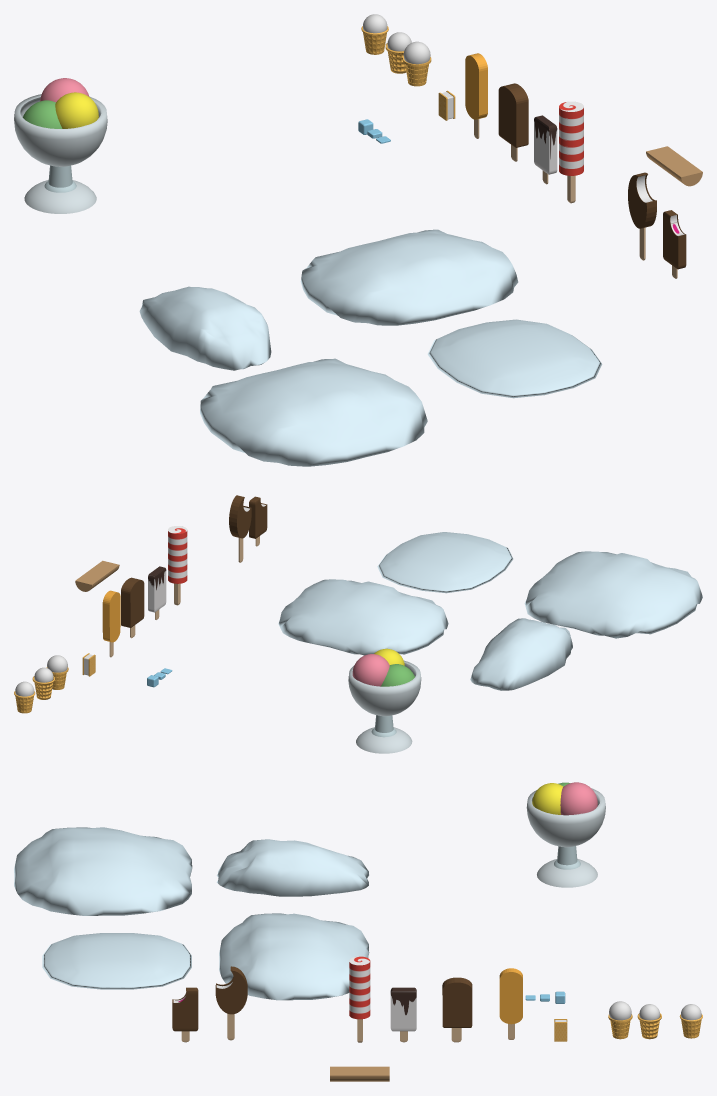
The model's file is smartobjects.fbx.
3 renders of one model, top to bottom at view 1: azimuth 30°, elevation 25°; view 2: azimuth 150°, elevation 25°; view 3: azimuth 270°, elevation 25°, orthographic. The views are drawn at different scales.
Visible parts, largest first — view 1: Cube.013, Cube.002, Cube, Cube.009, Sphere.002, Cylinder, Cylinder.002, Sphere, Cylinder.001, Sphere.003, Cube.005, Cylinder.003 (+4 smaller); view 2: Cube.013, Cube.002, Cube, Cube.009, Sphere.002, Cylinder, Cylinder.002, Sphere, Sphere.001, Cylinder.001, Cylinder.003, Cube.005 (+3 smaller); view 3: Cube.013, Cube.002, Cube, Cube.009, Sphere.002, Cylinder.002, Cylinder, Cylinder.001, Cube.005, Sphere, Cylinder.003, Cube.011 (+3 smaller).
Boxes of the visible parts, left/top/right/bottom form: Cube.013: left=200, top=358, right=427, bottom=466; Cube.002: left=300, top=229, right=518, bottom=325; Cube: left=427, top=319, right=602, bottom=398; Cube.009: left=139, top=286, right=271, bottom=370; Sphere.002: left=14, top=94, right=107, bottom=166; Cylinder: left=559, top=101, right=583, bottom=175; Cylinder.002: left=498, top=83, right=528, bottom=147; Sphere: left=24, top=180, right=96, bottom=213; Cylinder.001: left=465, top=53, right=487, bottom=119; Sphere.003: left=55, top=92, right=98, bottom=128; Cube.005: left=534, top=115, right=557, bottom=174; Cylinder.003: left=628, top=172, right=656, bottom=228; Cube.013: left=524, top=551, right=702, bottom=638; Cube.002: left=278, top=579, right=448, bottom=655; Cube: left=377, top=532, right=513, bottom=593; Cube.009: left=470, top=618, right=572, bottom=690; Sphere.002: left=348, top=660, right=421, bottom=716; Cylinder: left=168, top=526, right=187, bottom=583; Cylinder.002: left=121, top=577, right=144, bottom=627; Sphere: left=356, top=727, right=412, bottom=753; Sphere.001: left=352, top=654, right=389, bottom=686; Cylinder.001: left=102, top=590, right=120, bottom=642; Cylinder.003: left=229, top=495, right=251, bottom=538; Cube.005: left=148, top=566, right=166, bottom=612; Cube.013: left=14, top=827, right=192, bottom=915; Cube.002: left=219, top=913, right=369, bottom=1000; Cube: left=42, top=933, right=191, bottom=989; Cube.009: left=216, top=839, right=368, bottom=896; Sphere.002: left=526, top=788, right=605, bottom=847; Cylinder.002: left=442, top=977, right=472, bottom=1027; Cylinder: left=349, top=956, right=370, bottom=1019; Cylinder.001: left=499, top=968, right=522, bottom=1024; Cube.005: left=390, top=987, right=416, bottom=1031; Sphere: left=537, top=859, right=597, bottom=887; Cylinder.003: left=215, top=966, right=247, bottom=1014; Cube.011: left=172, top=987, right=198, bottom=1031.
Bounding box in the file's own units: 12102 × 2365 × 13886.
17 materials, 5 textured.
